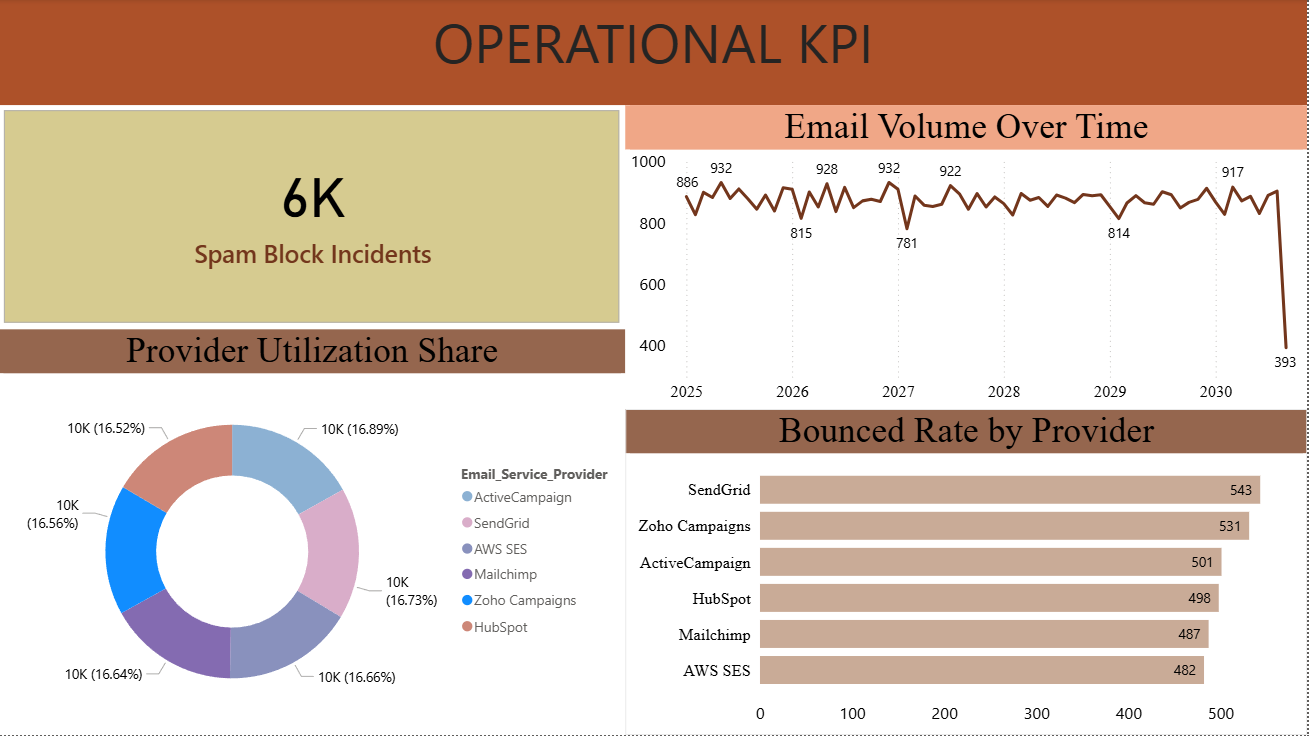

The dashboard page shown, as its layout file describes it:
{"tool":"powerbi","page":{"name":"Operational KPI","canvas":[1280,720],"ordinal":4},"visuals":[{"type":"textbox","box":[0,0,1280.3,103.9],"z":0},{"type":"donutChart","title":"Provider Utilization Share","fields":{"Y":["Spam Detection Email.Total Email Sent"],"Category":["Spam Detection Email.Email_Service_Provider"]},"box":[0,322.8,612.6,397.4],"z":1000},{"type":"barChart","title":"Bounced Rate by Provider ","fields":{"Category":["Spam Detection Email.Email_Service_Provider"],"Y":["Spam Detection Email.Bounced Rate"]},"box":[612.6,401.1,667.7,319.2],"z":2000},{"type":"cardVisual","fields":{"Data":["Spam Detection Email.Spam Block Incidents"]},"box":[0,103.9,612.6,218.9],"z":3000},{"type":"lineChart","title":"Email Volume Over Time","fields":{"Y":["Spam Detection Email.Total Email Sent"],"Category":["Spam Detection Email.Send_Date.Variation.Date Hierarchy.Year","Spam Detection Email.Send_Date.Variation.Date Hierarchy.Month"]},"box":[612.6,103.9,667.7,297.1],"z":4000}]}

Visuals, with their boxes in screenshot pixels (x1, y1, x2, y2), scaled from the page's 1280x720 canvas onto the 1309x736 screenshot:
textbox: 0 0 1308 106
"Provider Utilization Share" donutChart: 0 330 626 735
"Bounced Rate by Provider " barChart: 626 410 1308 735
cardVisual - Spam Detection Email.Spam Block Incidents: 0 106 626 330
"Email Volume Over Time" lineChart: 626 106 1308 410
